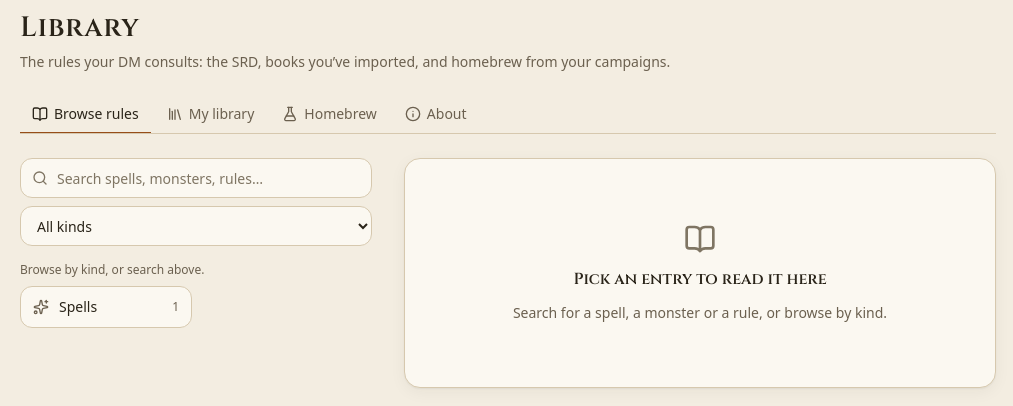
Test case: LibraryScreen › opens an entry from search and deep-links it with ?entry=
Step 1. Type "fire" into the search field named "Search the rules" → (196, 178), box [20,158,372,198]
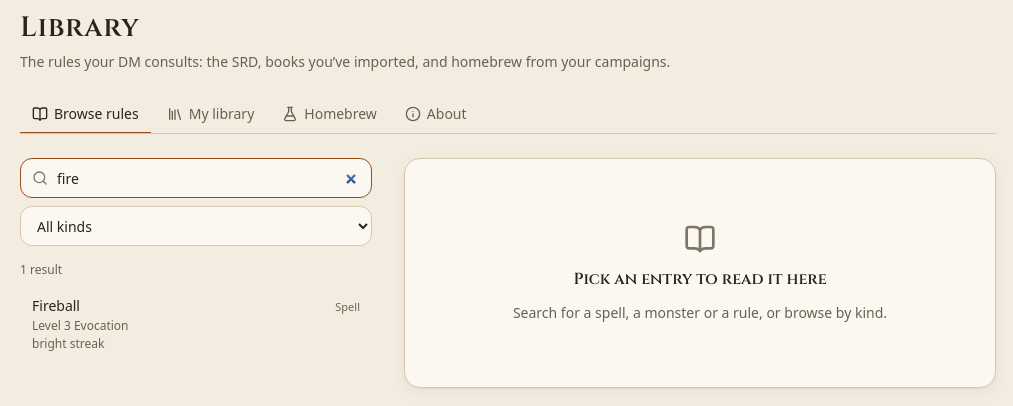
Step 2. Click the link "Fireball Spell Level 3 Evocation bright streak" → (56, 306), box [20,286,372,362]
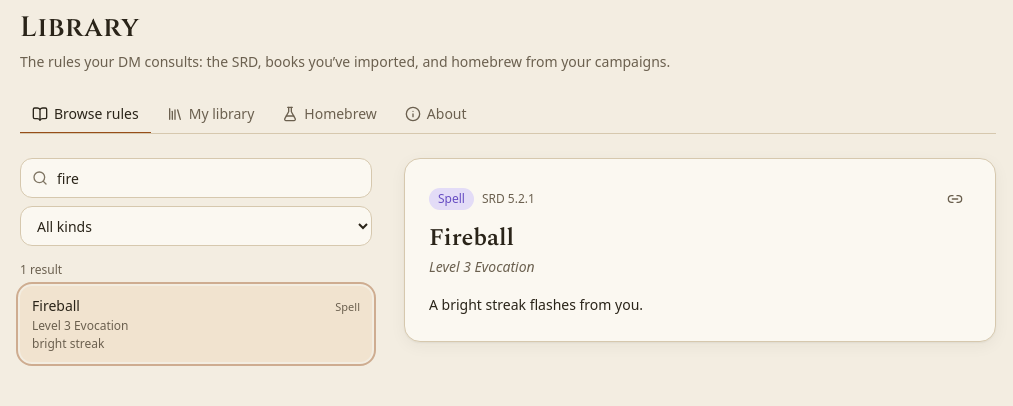
Check: the heading "Fireball" is shown, box [429,220,514,256]
Check: the text "A bright streak flashes from you." is shown, box [429,295,643,314]
